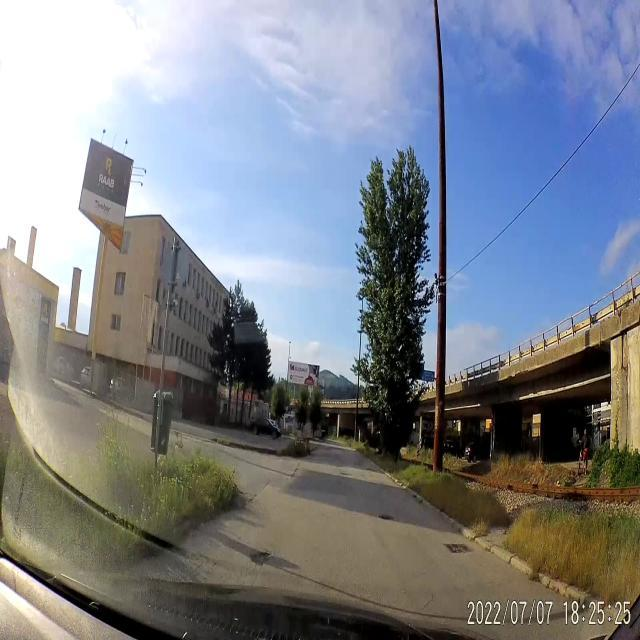Manhole: (439, 528, 474, 564)
Open Manhole: (376, 509, 396, 529)
Pothole: (244, 543, 274, 575), (340, 468, 356, 479), (366, 466, 376, 474)
